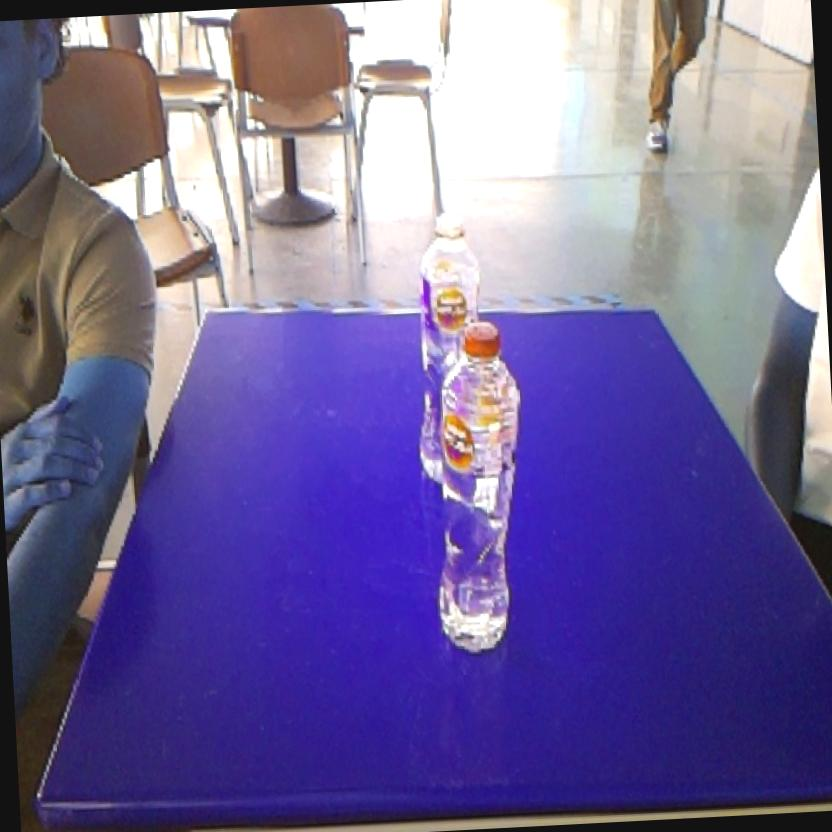good: (418, 314, 538, 664)
no_cap: (404, 202, 498, 322)
